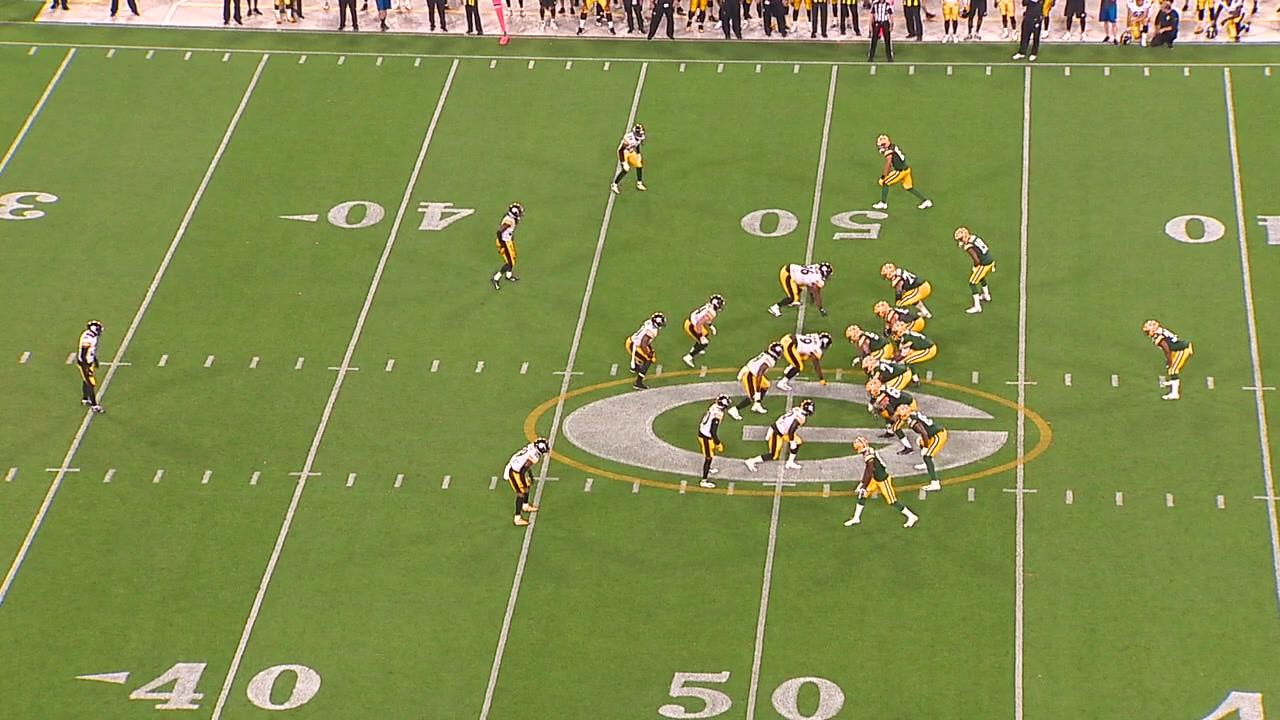player: (842, 436, 920, 531), (743, 397, 817, 475), (892, 401, 950, 494), (871, 131, 935, 212), (727, 340, 785, 423), (502, 435, 552, 528), (1140, 318, 1196, 401), (865, 378, 919, 457), (952, 224, 997, 316), (767, 260, 836, 319), (623, 310, 669, 392), (681, 292, 728, 370), (696, 390, 732, 491), (775, 331, 834, 392), (489, 200, 527, 293), (889, 320, 939, 390), (72, 316, 107, 416), (879, 261, 935, 321), (608, 122, 650, 196), (843, 323, 894, 367), (861, 355, 914, 392), (871, 299, 926, 333)
ref: (863, 0, 900, 63)
